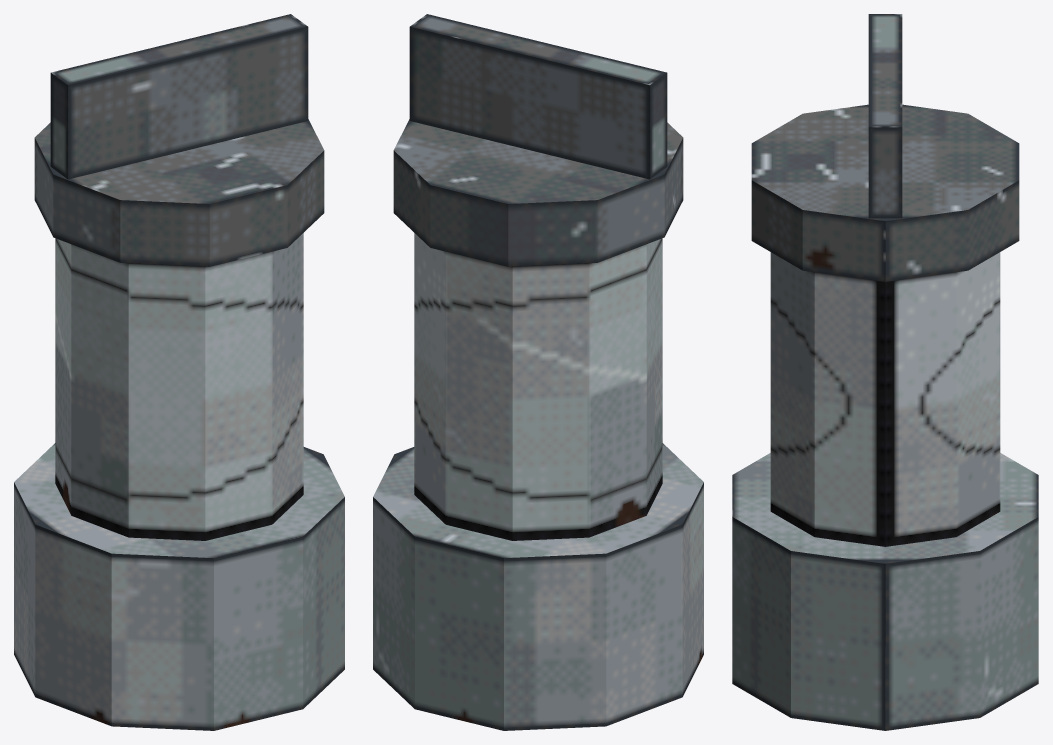
File: SM_Lamp_Oil_01.fbx
3 renders of one model, left to right at view 1: azimuth 30°, elevation 25°; view 2: azimuth 150°, elevation 25°; view 3: azimuth 270°, elevation 25°, orthographic. The views are drawn at different scales.
Parts seen in each view (by area): view 1: SM_Lamp_Oil_01; view 2: SM_Lamp_Oil_01; view 3: SM_Lamp_Oil_01.
Boxes of the visible parts, x1=… form: SM_Lamp_Oil_01: x1=14, y1=14, x2=344, y2=730; SM_Lamp_Oil_01: x1=373, y1=14, x2=703, y2=730; SM_Lamp_Oil_01: x1=732, y1=14, x2=1038, y2=730.
Size of the model in its own units: 0.096 by 0.195 by 0.0913.
Materials: 1 (1 with a texture image).
